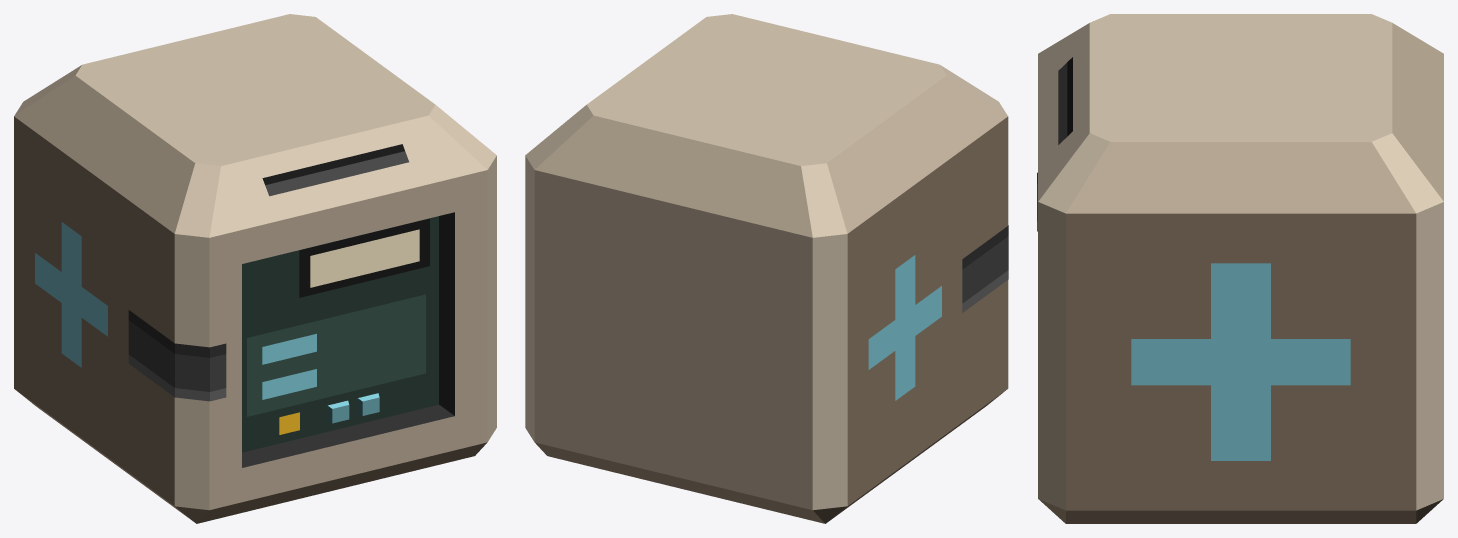
File: CR_FirstAidKit_Large.fbx
3 renders of one model, left to right at view 1: azimuth 30°, elevation 25°; view 2: azimuth 150°, elevation 25°; view 3: azimuth 270°, elevation 25°, orthographic. The views are drawn at different scales.
Visible parts, largest first — view 1: CR_FirstAidKit_Large; view 2: CR_FirstAidKit_Large; view 3: CR_FirstAidKit_Large.
Boxes of the visible parts, x1,y1,x2,y2 form: CR_FirstAidKit_Large: [14, 14, 496, 523]; CR_FirstAidKit_Large: [525, 14, 1008, 523]; CR_FirstAidKit_Large: [1037, 14, 1443, 523].
Bounding box in the file's own units: 0.8257 × 0.8339 × 0.8267.
